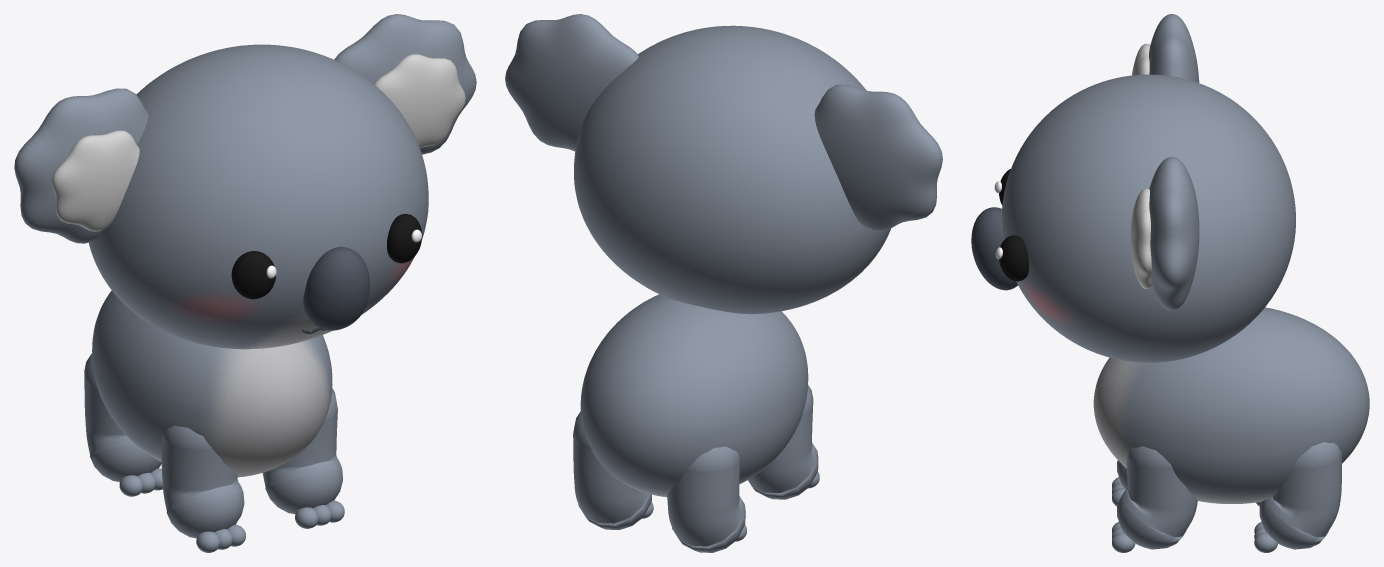
Rendered from koala.glb.
3 renders of one model, left to right at view 1: azimuth 30°, elevation 25°; view 2: azimuth 150°, elevation 25°; view 3: azimuth 270°, elevation 25°, orthographic. The views are drawn at different scales.
Visible parts, largest first — view 1: head_mesh, body_mesh, ear_r, leg1_mesh, ear_fluff_r, ear_l, ear_fluff_l, leg0_mesh, nose, leg3_mesh, eye_-1, eye_1; view 2: head_mesh, body_mesh, ear_r, ear_l, leg3_mesh, leg2_mesh, leg1_mesh; view 3: head_mesh, body_mesh, ear_l, leg2_mesh, leg0_mesh, ear_r, nose, ear_fluff_l, eye_1.
Boxes of the visible parts, x1=… form: head_mesh: x1=88, y1=44, x2=428, y2=349; body_mesh: x1=92, y1=290, x2=332, y2=477; ear_r: x1=14, y1=88, x2=148, y2=243; leg1_mesh: x1=161, y1=425, x2=244, y2=538; ear_fluff_r: x1=52, y1=130, x2=139, y2=231; ear_l: x1=334, y1=14, x2=476, y2=154; ear_fluff_l: x1=374, y1=54, x2=465, y2=147; leg0_mesh: x1=262, y1=388, x2=342, y2=514; nose: x1=303, y1=247, x2=369, y2=330; leg3_mesh: x1=84, y1=353, x2=161, y2=482; eye_-1: x1=231, y1=251, x2=275, y2=299; eye_1: x1=387, y1=214, x2=422, y2=263; head_mesh: x1=574, y1=25, x2=890, y2=314; body_mesh: x1=580, y1=294, x2=808, y2=497; ear_r: x1=814, y1=84, x2=942, y2=231; ear_l: x1=505, y1=14, x2=638, y2=151; leg3_mesh: x1=667, y1=446, x2=745, y2=552; leg2_mesh: x1=573, y1=411, x2=651, y2=529; leg1_mesh: x1=748, y1=385, x2=818, y2=499; head_mesh: x1=1002, y1=74, x2=1295, y2=362; body_mesh: x1=1093, y1=307, x2=1369, y2=503; ear_l: x1=1149, y1=157, x2=1199, y2=310; leg2_mesh: x1=1259, y1=442, x2=1341, y2=549; leg0_mesh: x1=1117, y1=446, x2=1197, y2=549; ear_r: x1=1149, y1=14, x2=1199, y2=82; nose: x1=971, y1=207, x2=1017, y2=290; ear_fluff_l: x1=1130, y1=188, x2=1152, y2=288; eye_1: x1=999, y1=235, x2=1028, y2=281.
Bounding box in the file's own units: 1.07 × 1.04 × 0.8654.
